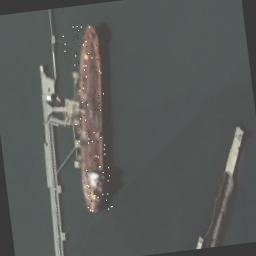boat: (61, 21, 119, 212)
